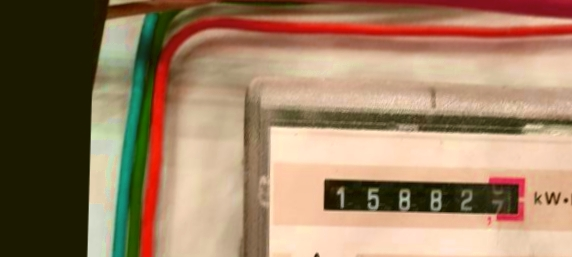1: (335, 183, 348, 209)
2: (459, 186, 476, 212)
5: (366, 185, 381, 211)
7: (490, 196, 505, 214)
8: (397, 186, 414, 211), (429, 187, 445, 212)
screen: (314, 166, 534, 229)
